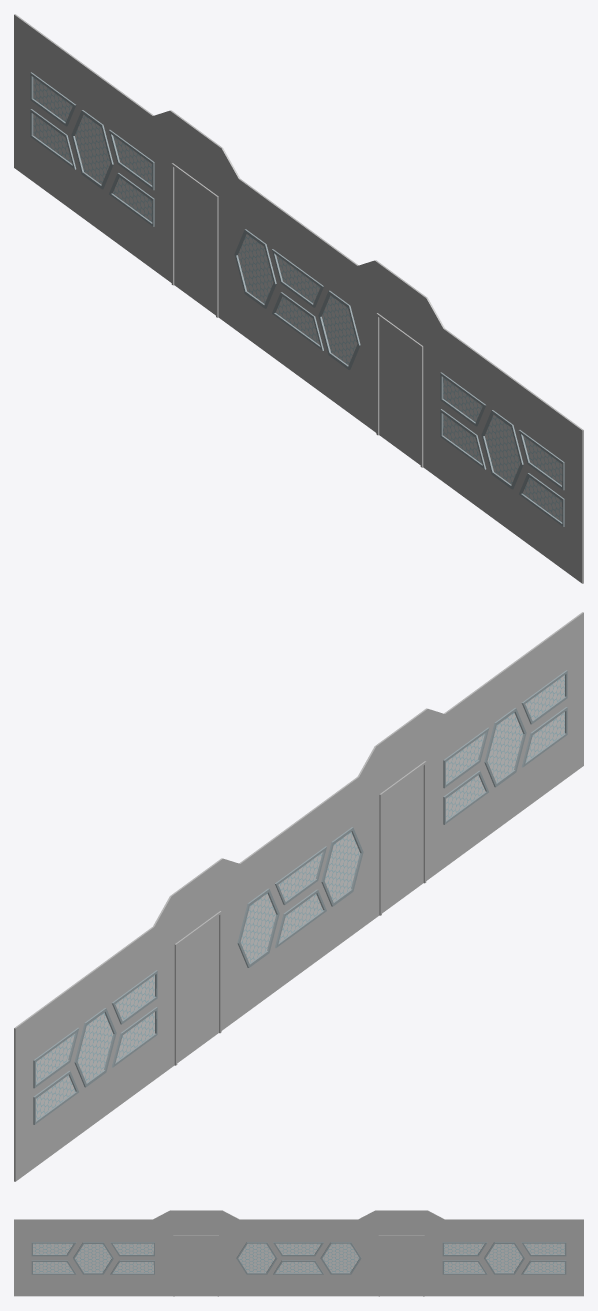
Rendered from Station04WallFront01B.FBX.
The picture shows the model from 3 angles, top to bottom: view 1: azimuth 30°, elevation 25°; view 2: azimuth 150°, elevation 25°; view 3: azimuth 270°, elevation 25°; orthographic projection. The views are drawn at different scales.
Parts seen in each view (by area): view 1: Station04WallFront01, Station04WallWindGlassf, Station04WallWindF, Station04WallFrontMtl; view 2: Station04WallFront01, Station04WallWindGlassf, Station04WallWindF, Station04WallFrontMtl; view 3: Station04WallFront01, Station04WallWindGlassf, Station04WallWindF, Station04WallFrontMtl.
Boxes of the visible parts, x1,y1,x2,y2 form: Station04WallFront01: (14,14,583,583); Station04WallWindGlassf: (33,77,562,522); Station04WallWindF: (30,72,564,526); Station04WallFrontMtl: (171,163,423,467); Station04WallFront01: (14,612,583,1181); Station04WallWindGlassf: (36,675,564,1119); Station04WallWindF: (33,670,567,1124); Station04WallFrontMtl: (174,761,426,1065); Station04WallFront01: (14,1210,583,1296); Station04WallWindGlassf: (33,1243,564,1272); Station04WallWindF: (31,1242,566,1274); Station04WallFrontMtl: (173,1235,424,1296).
Bounding box in the file's own units: 10.93 × 412 × 2476.
